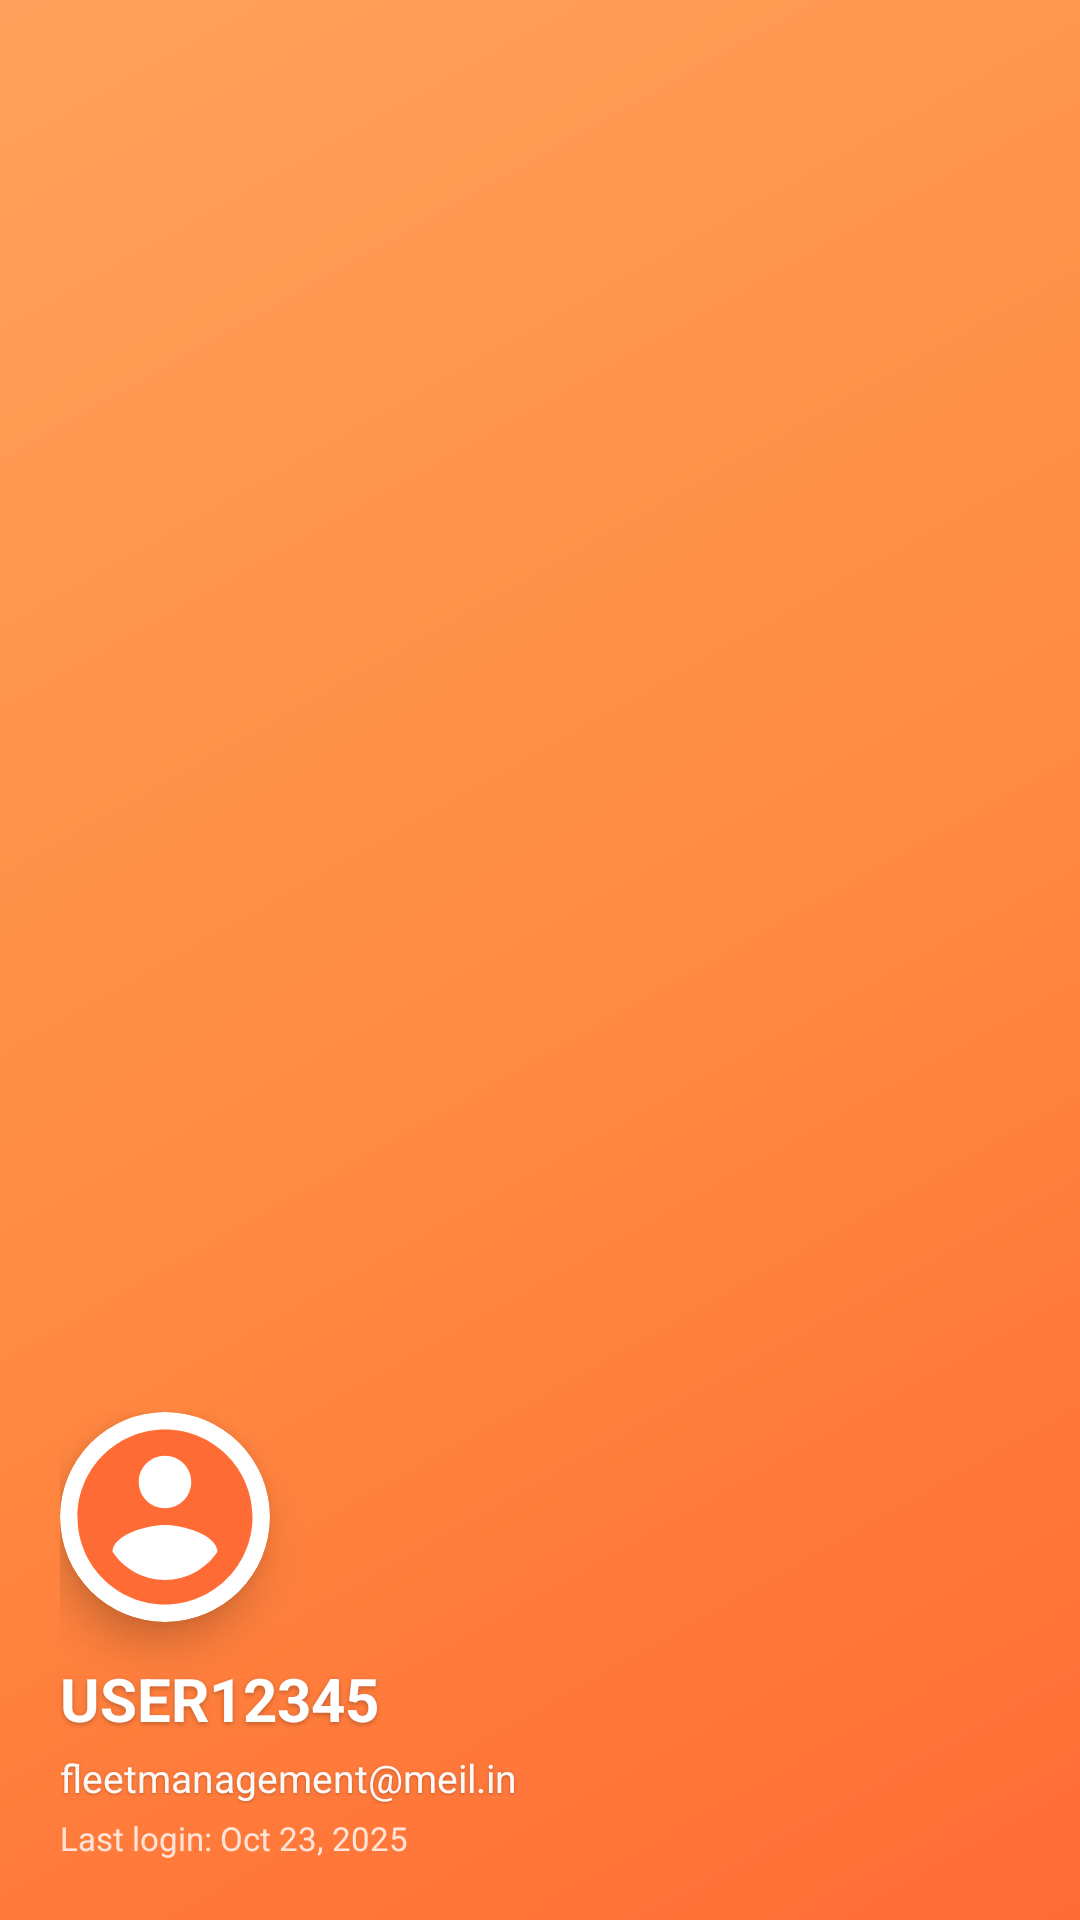

Icon bounding boxes for this 1080x1920 phone screenshot, format (x1, y1, x2, y2):
Profile picture: (60, 1412, 270, 1622)
